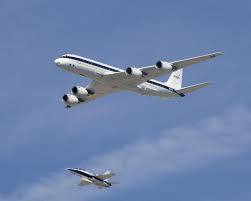plane: (54, 51, 224, 110), (66, 167, 119, 188)
